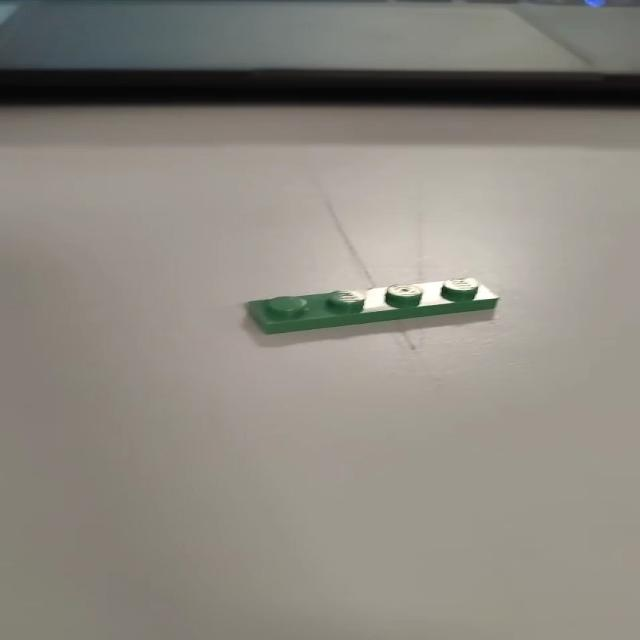C4x1x0: (241, 273, 505, 337)
